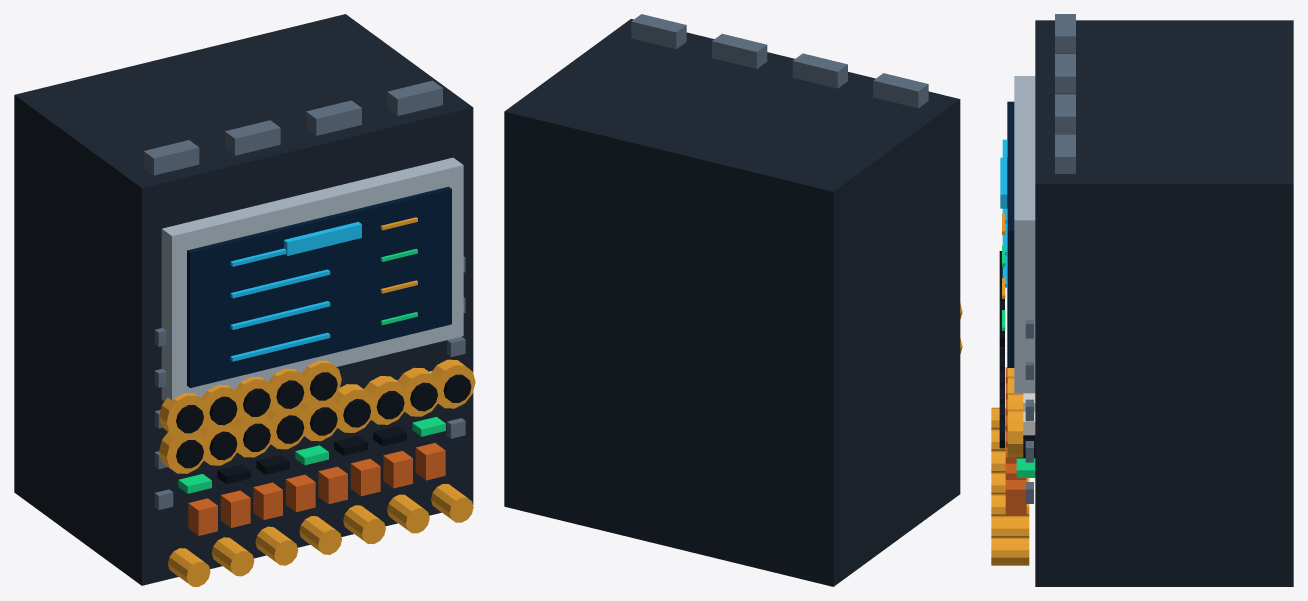
File: 69_L87_GravitySafetySupervisoryPLC.fbx
The picture shows the model from 3 angles, left to right: view 1: azimuth 30°, elevation 25°; view 2: azimuth 150°, elevation 25°; view 3: azimuth 270°, elevation 25°; orthographic projection.
Parts seen in each view (by area): view 1: L87_GravitySafetySupervisoryPLC, L87_GravitySafetySupervisoryPLC_Part_0010, L87_GravitySafetySupervisoryPLC_Part_0011, L87_GravitySafetySupervisoryPLC_Part_0030, L87_GravitySafetySupervisoryPLC_Part_0012, L87_GravitySafetySupervisoryPLC_Part_0028, L87_GravitySafetySupervisoryPLC_Part_0024, L87_GravitySafetySupervisoryPLC_Part_0026, L87_GravitySafetySupervisoryPLC_Part_0022, L87_GravitySafetySupervisoryPLC_Part_0032, L87_GravitySafetySupervisoryPLC_Part_0016, L87_GravitySafetySupervisoryPLC_Part_0034 (+19 smaller); view 2: L87_GravitySafetySupervisoryPLC, L87_GravitySafetySupervisoryPLC_Part_0010; view 3: L87_GravitySafetySupervisoryPLC, L87_GravitySafetySupervisoryPLC_Part_0010, L87_GravitySafetySupervisoryPLC_Part_0028, L87_GravitySafetySupervisoryPLC_Part_0011.
Part boxes in pixels (x1,y1,x2,y2): L87_GravitySafetySupervisoryPLC: (14,14,473,586); L87_GravitySafetySupervisoryPLC_Part_0010: (143,80,442,175); L87_GravitySafetySupervisoryPLC_Part_0011: (284,222,361,255); L87_GravitySafetySupervisoryPLC_Part_0030: (159,393,207,437); L87_GravitySafetySupervisoryPLC_Part_0012: (159,431,207,473); L87_GravitySafetySupervisoryPLC_Part_0028: (431,359,475,408); L87_GravitySafetySupervisoryPLC_Part_0024: (364,376,408,424); L87_GravitySafetySupervisoryPLC_Part_0026: (397,367,441,416); L87_GravitySafetySupervisoryPLC_Part_0022: (333,384,375,432); L87_GravitySafetySupervisoryPLC_Part_0032: (201,385,241,430); L87_GravitySafetySupervisoryPLC_Part_0016: (232,414,274,457); L87_GravitySafetySupervisoryPLC_Part_0034: (234,377,274,422); L87_GravitySafetySupervisoryPLC: (504,19,960,586); L87_GravitySafetySupervisoryPLC_Part_0010: (631,14,928,108); L87_GravitySafetySupervisoryPLC: (991,20,1293,586); L87_GravitySafetySupervisoryPLC_Part_0010: (1055,14,1075,173); L87_GravitySafetySupervisoryPLC_Part_0028: (1007,409,1023,457); L87_GravitySafetySupervisoryPLC_Part_0011: (1000,157,1007,208).
Bounding box in the file's own units: 104 × 124 × 81.09.
